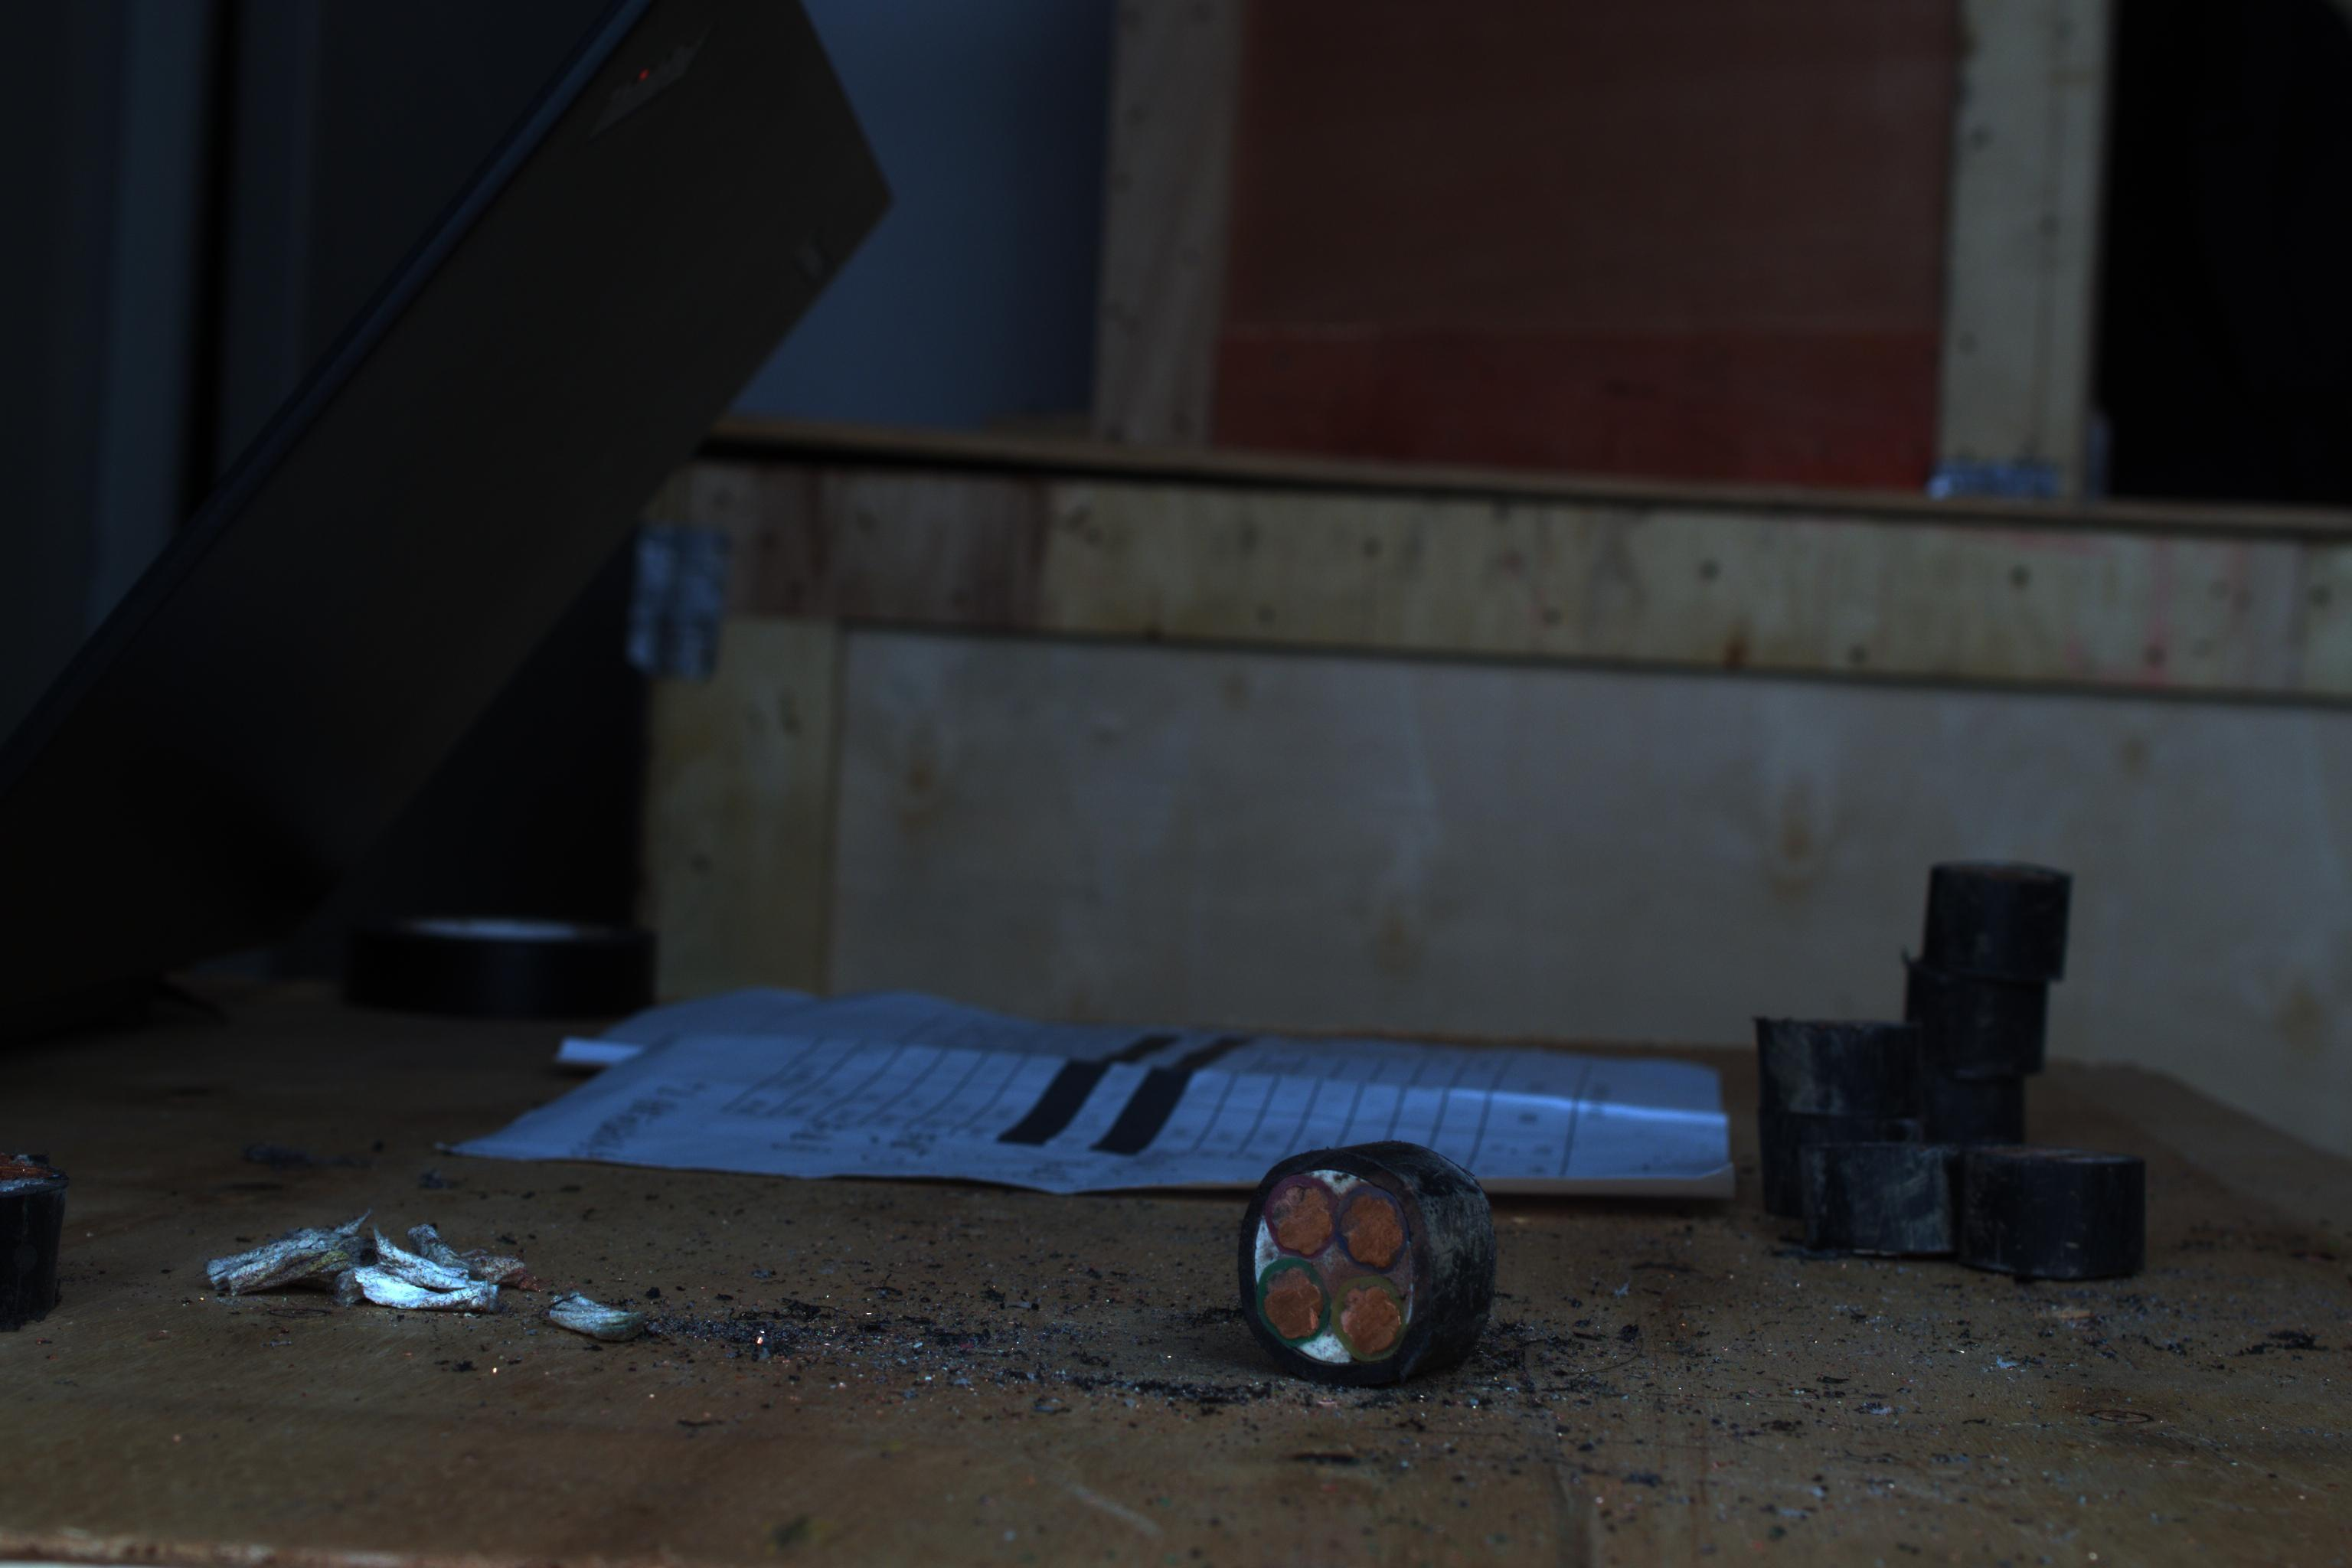YJV_0.6_1kV_4x35: (1220, 1134, 1444, 1381)
